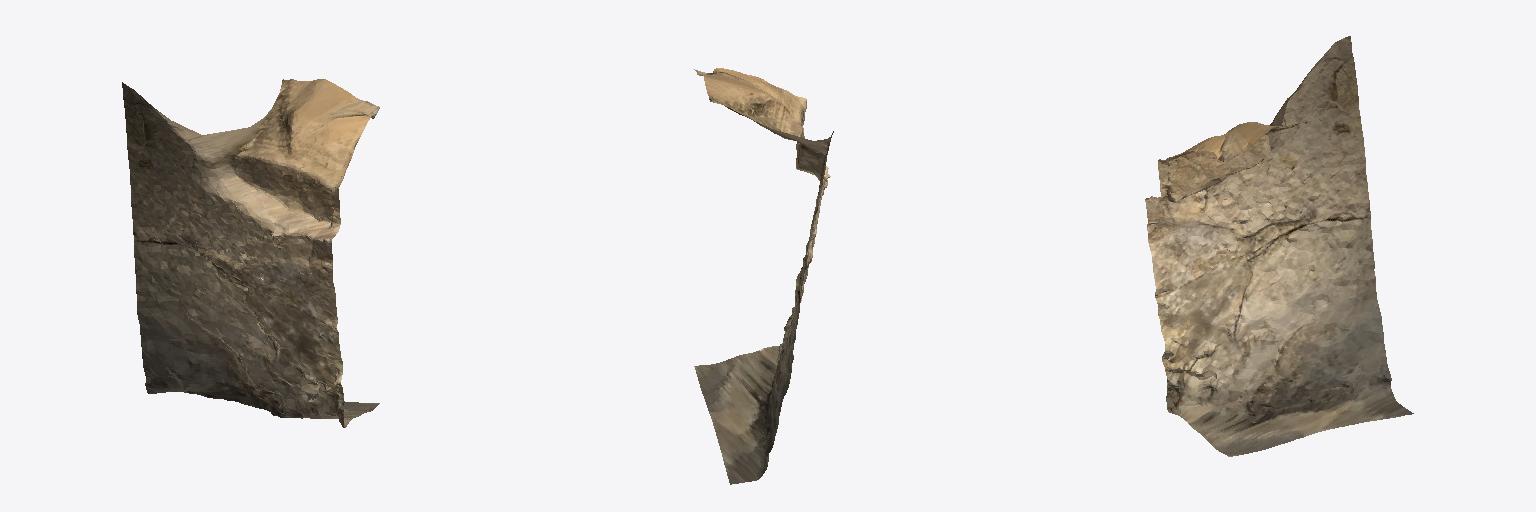
3 views of the same model, side by side, from view 1: azimuth 30°, elevation 25°; view 2: azimuth 150°, elevation 25°; view 3: azimuth 270°, elevation 25° (orthographic).
Visible parts, largest first — view 1: texture_0; view 2: texture_0; view 3: texture_0.
Part boxes in pixels (x1,y1,x2,y2): texture_0: (122,79,379,427); texture_0: (694,68,833,484); texture_0: (1145,36,1413,456).
Size of the model in its own units: 0.3442 by 0.5723 by 0.4052.
1 materials, 1 textured.